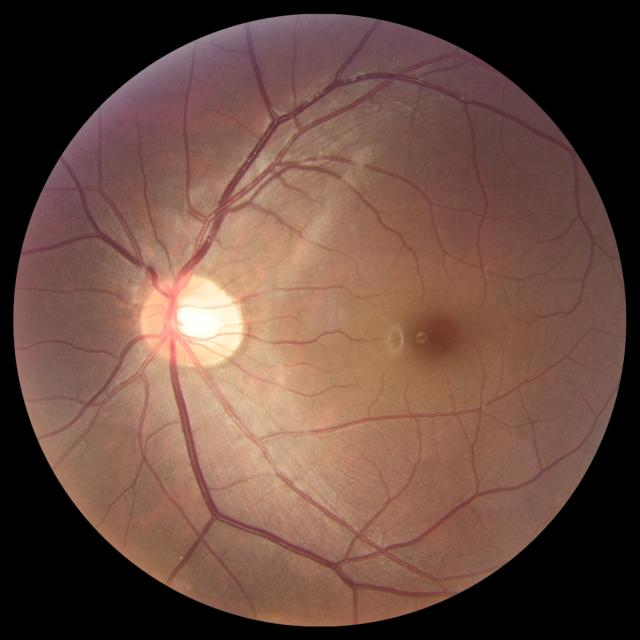OC: (169, 293, 222, 346)
OD: (142, 274, 244, 368)
